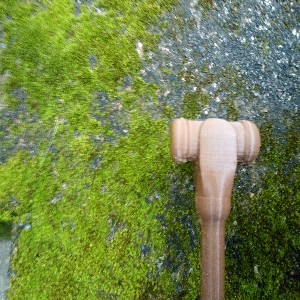palu: (170, 118, 260, 300)
